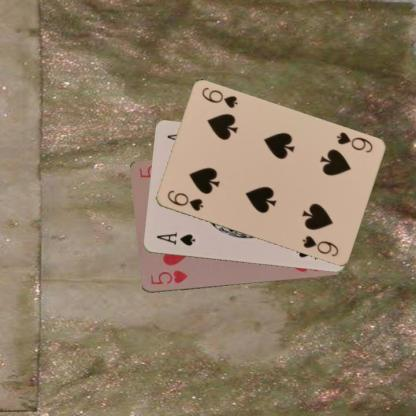5h: (147, 268, 189, 286)
6s: (164, 188, 205, 212), (333, 130, 374, 154)
As: (154, 230, 196, 247)
